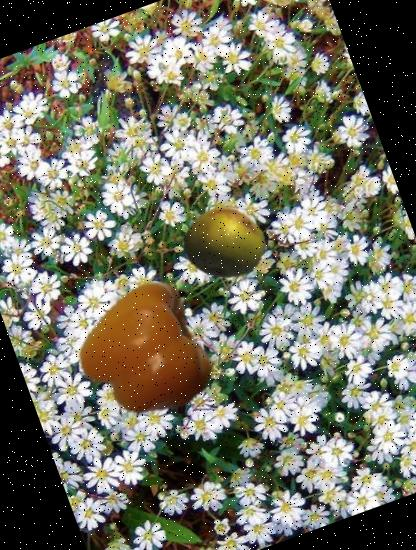Pepper: (64, 260, 240, 436)
Pomelo: (172, 190, 278, 295)
